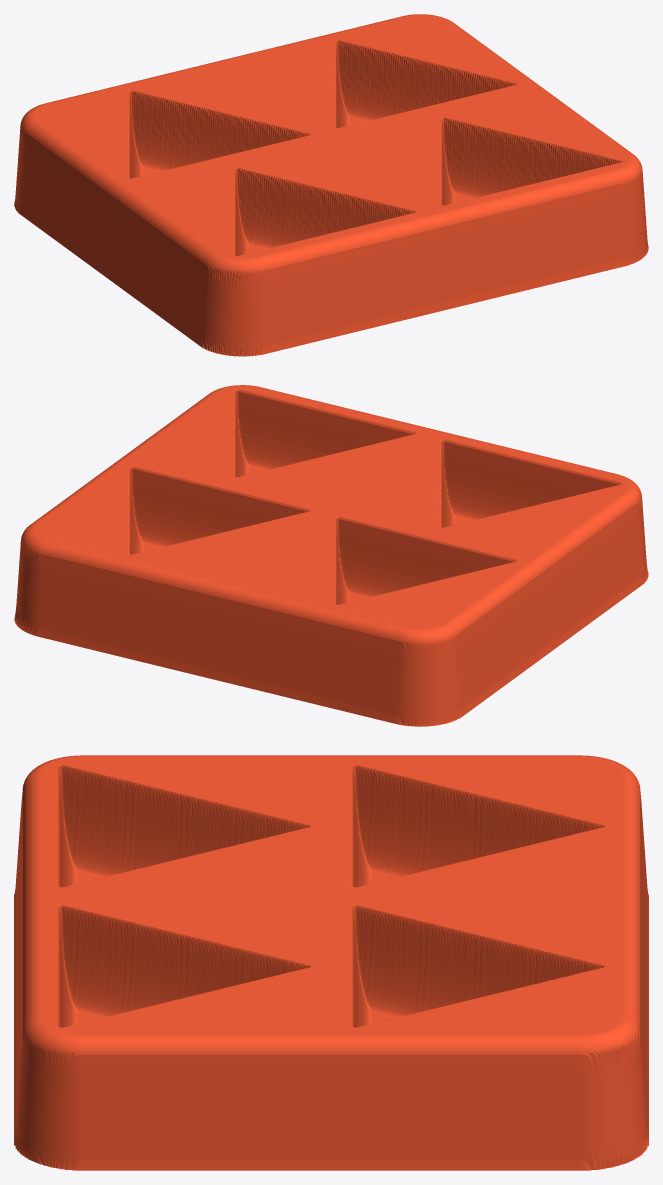
Rendered from mold.glb.
3 views of the same model, one above another, from view 1: azimuth 30°, elevation 25°; view 2: azimuth 150°, elevation 25°; view 3: azimuth 270°, elevation 25° (orthographic). The views are drawn at different scales.
Visible parts, largest first — view 1: geometry_0; view 2: geometry_0; view 3: geometry_0.
Part boxes in pixels (x1,y1,x2,y2): geometry_0: (14,14,648,356); geometry_0: (14,385,648,726); geometry_0: (14,755,648,1170).
Bounding box in the file's own units: 0.0942 × 0.0182 × 0.0842.
